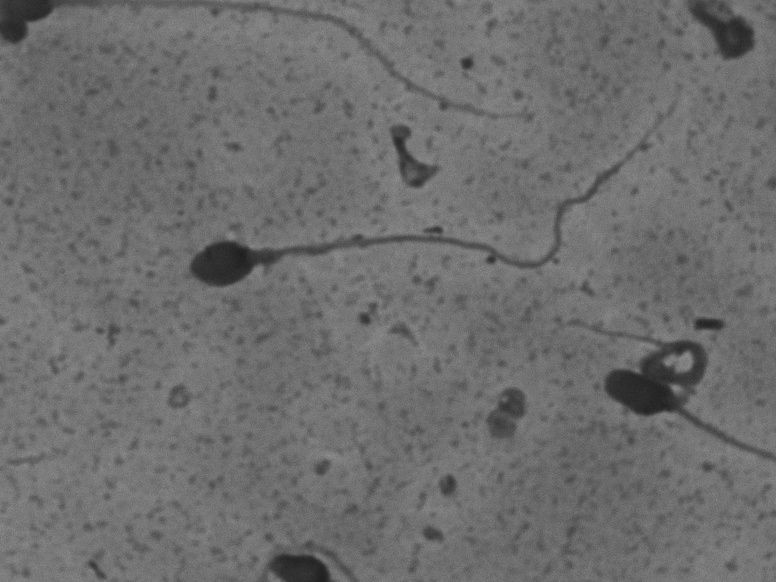Abnormal: (179, 92, 697, 307), (537, 305, 763, 484)
